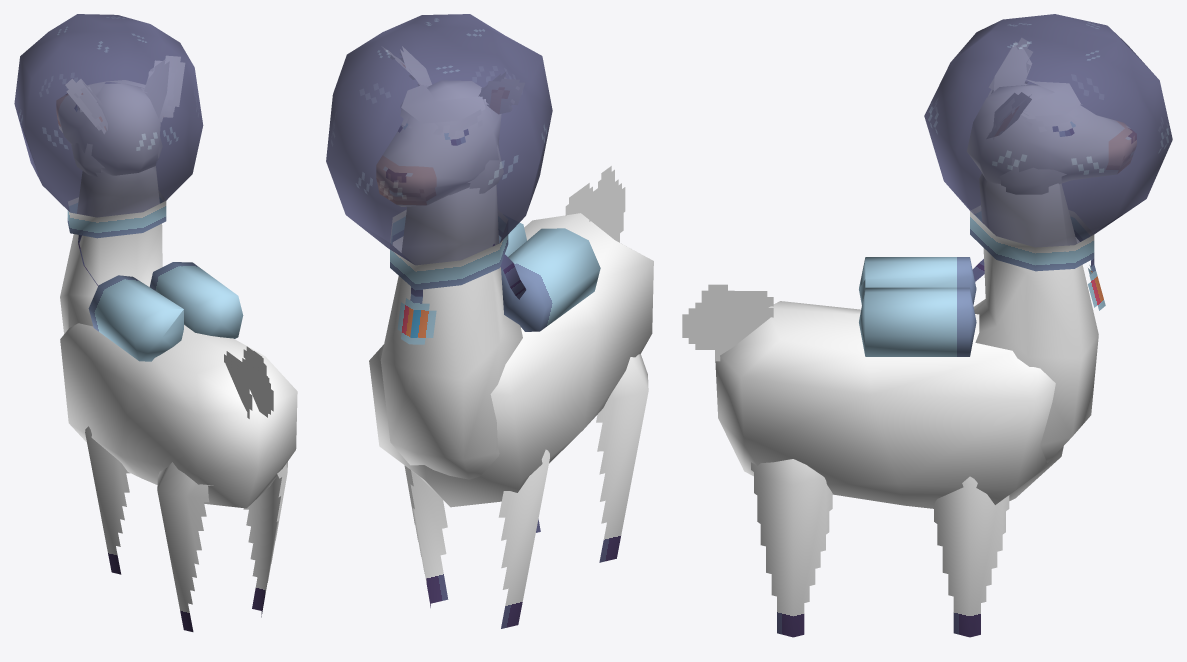
Rendered from lama.gltf.
The picture shows the model from 3 angles, left to right: view 1: azimuth 30°, elevation 25°; view 2: azimuth 150°, elevation 25°; view 3: azimuth 270°, elevation 25°; orthographic projection. The views are drawn at different scales.
Parts seen in each view (by area): view 1: helmet, lama, oxygen_tank, neck, head, leg_back_left, leg_front_left, leg_back_right, ear_right, ear_left; view 2: helmet, lama, neck, head, oxygen_tank, leg_back_left, leg_front_left, leg_front_right, tag, ear_left, ear_right, hose; view 3: lama, helmet, neck, head, oxygen_tank, leg_back_right, leg_front_right, ear_left, ear_right.
Part boxes in pixels (bbox=[...]): helmet: bbox=[14, 14, 203, 238]; lama: bbox=[60, 323, 297, 508]; oxygen_tank: bbox=[88, 262, 243, 361]; neck: bbox=[60, 166, 162, 333]; head: bbox=[56, 80, 162, 176]; leg_back_left: bbox=[157, 462, 213, 631]; leg_front_left: bbox=[85, 426, 129, 574]; leg_back_right: bbox=[243, 461, 287, 617]; ear_right: bbox=[144, 56, 184, 121]; ear_left: bbox=[65, 79, 107, 133]; helmet: bbox=[326, 14, 552, 289]; lama: bbox=[369, 166, 653, 507]; neck: bbox=[380, 185, 522, 479]; head: bbox=[376, 80, 503, 206]; oxygen_tank: bbox=[499, 222, 600, 331]; leg_back_left: bbox=[596, 354, 648, 562]; leg_front_left: bbox=[498, 449, 549, 628]; leg_front_right: bbox=[404, 465, 448, 607]; tag: bbox=[397, 281, 436, 344]; ear_left: bbox=[479, 72, 524, 113]; ear_right: bbox=[383, 46, 431, 85]; hose: bbox=[493, 244, 526, 299]; lama: bbox=[682, 284, 1063, 508]; helmet: bbox=[924, 14, 1172, 271]; neck: bbox=[973, 174, 1098, 462]; head: bbox=[967, 79, 1136, 194]; oxygen_tank: bbox=[859, 257, 976, 356]; leg_back_right: bbox=[751, 459, 832, 637]; leg_front_right: bbox=[934, 476, 1009, 637]; ear_left: bbox=[988, 38, 1032, 95]; ear_right: bbox=[986, 92, 1031, 139].
Bounding box in the file's own units: 0.5312 × 1.58 × 1.17.
Materials: 2 (2 with a texture image).
